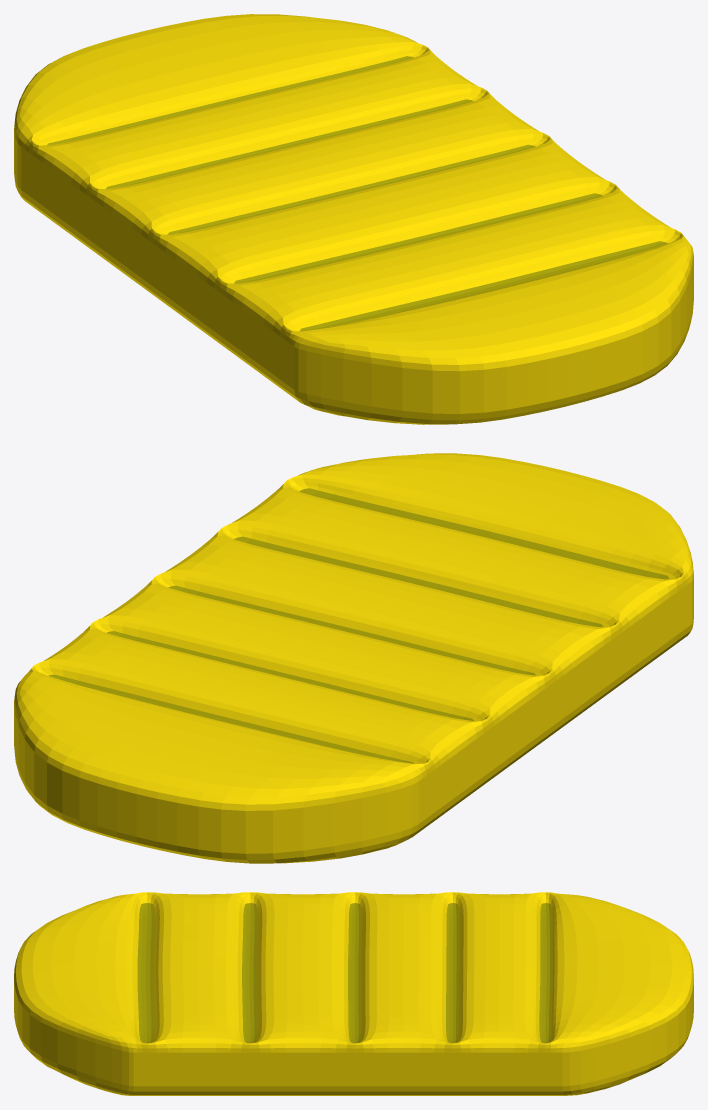
The model's file is coin.fbx.
The picture shows the model from 3 angles, top to bottom: view 1: azimuth 30°, elevation 25°; view 2: azimuth 150°, elevation 25°; view 3: azimuth 270°, elevation 25°; orthographic projection. The views are drawn at different scales.
Parts seen in each view (by area): view 1: Cube; view 2: Cube; view 3: Cube.
Boxes of the visible parts, x1,y1,x2,y2 form: Cube: [14, 14, 693, 424]; Cube: [14, 453, 693, 863]; Cube: [14, 892, 693, 1095].
Bounding box in the file's own units: 200 × 39.41 × 377.
